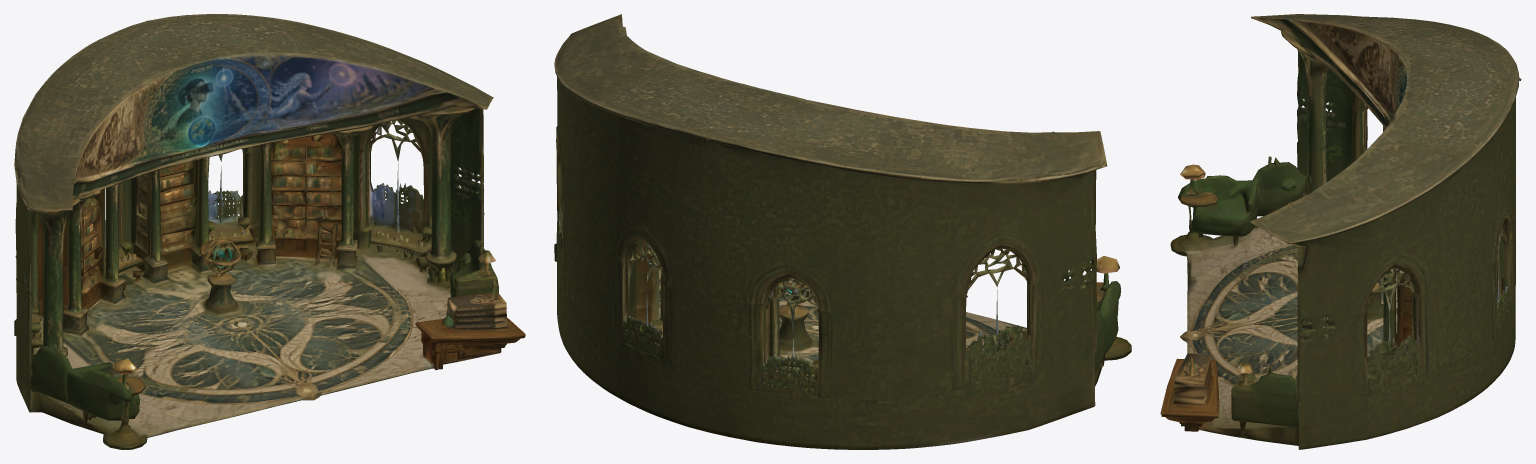
The model's file is library.glb.
3 renders of one model, left to right at view 1: azimuth 30°, elevation 25°; view 2: azimuth 150°, elevation 25°; view 3: azimuth 270°, elevation 25°, orthographic. The views are drawn at different scales.
Visible parts, largest first — view 1: tripo_node_81de27d0-4482-4888-866d-4f2e1bb2fa60; view 2: tripo_node_81de27d0-4482-4888-866d-4f2e1bb2fa60; view 3: tripo_node_81de27d0-4482-4888-866d-4f2e1bb2fa60.
Part boxes in pixels (box(x1,y1,x2,y2)): tripo_node_81de27d0-4482-4888-866d-4f2e1bb2fa60: box(14, 14, 525, 449); tripo_node_81de27d0-4482-4888-866d-4f2e1bb2fa60: box(554, 14, 1131, 449); tripo_node_81de27d0-4482-4888-866d-4f2e1bb2fa60: box(1160, 14, 1521, 449).
Size of the model in its own units: 0.9796 by 0.519 by 0.6517.
Materials: 1 (1 with a texture image).
